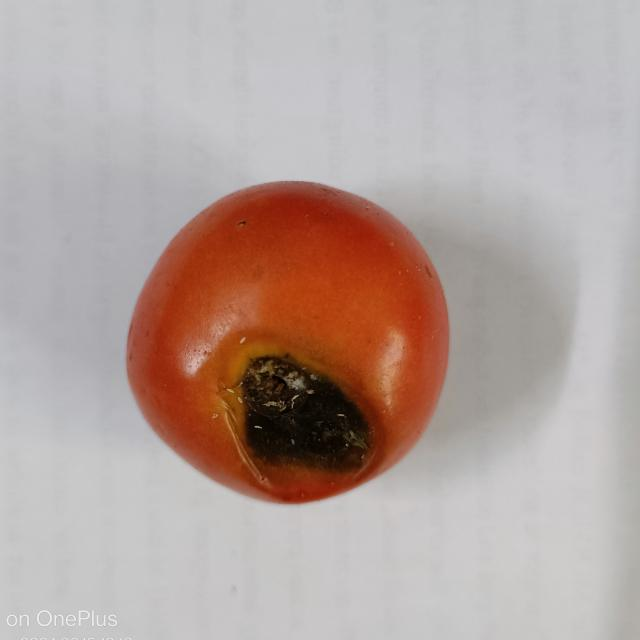Anthrocnose: (224, 358, 376, 484)
